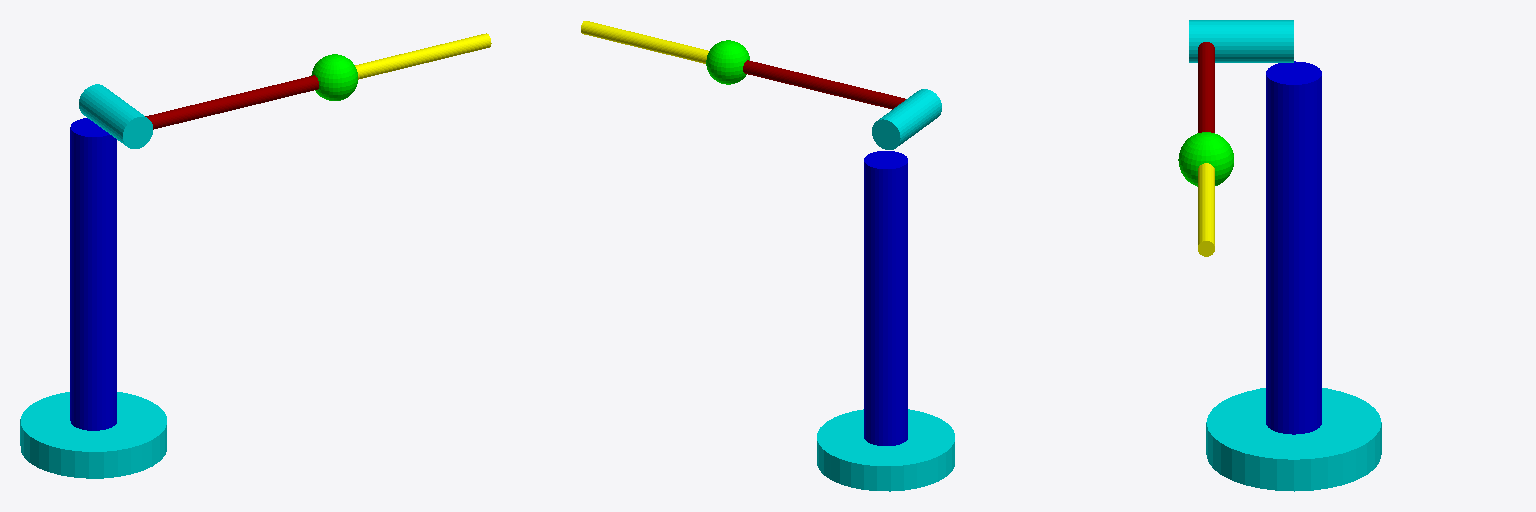
robot.urdf — pend_robot:
<?xml version="1.0"?>
<!--
  Motorised pendulum, tidied version.

  Frame conventions (all link frames are aligned with the world frame when q = 0):
    * the post is vertical, along +z;
    * the motor_joint (shoulder) is at (0, -0.25, 1.3): above the post and 0.25 m to its side,
      so the arm swings in the plane y = -0.25, beside the post and never through it;
    * the joint axis is -y, so a positive angle lifts the arm UP in the x-z plane;
    * at q = 0 the arm points along +x (horizontal).
  The only rpy values in this file are inside <visual>/<inertial> tags. They rotate the
  cylinder shapes (which PyBullet builds along z) so that they lie along x or y.
  They do not change any frame.
-->
<robot name="pend_robot">

  <link name="base_link">
    <visual>
      <origin xyz="0 0 0.05" rpy="0 0 0"/>
      <geometry><cylinder radius="0.25" length="0.1"/></geometry>
      <material name="cyan"><color rgba="0 0.9 0.9 1.0"/></material>
    </visual>
    <inertial>
      <origin xyz="0 0 0.05" rpy="0 0 0"/>
      <mass value="100"/>
      <inertia ixx="10" ixy="0" ixz="0" iyy="10" iyz="0" izz="10"/>
    </inertial>
  </link>

  <link name="body_link">
    <visual>
      <origin xyz="0 0 0.6" rpy="0 0 0"/>
      <geometry><cylinder radius="0.08" length="1.2"/></geometry>
      <material name="blue"><color rgba="0 0 0.9 1.0"/></material>
    </visual>
    <inertial>
      <origin xyz="0 0 0.6" rpy="0 0 0"/>
      <mass value="5"/>
      <inertia ixx="0.6" ixy="0" ixz="0" iyy="0.6" iyz="0" izz="0.05"/>
    </inertial>
  </link>

  <!-- Motor housing: a cylinder along the joint axis (y), from the post to the arm. -->
  <link name="motor_link">
    <visual>
      <origin xyz="0 0.1 0" rpy="1.5707963 0 0"/>
      <geometry><cylinder radius="0.06" length="0.3"/></geometry>
      <material name="cyan"><color rgba="0 0.9 0.9 1.0"/></material>
    </visual>
    <inertial>
      <origin xyz="0 0 0" rpy="0 0 0"/>
      <mass value="1"/>
      <inertia ixx="0.01" ixy="0" ixz="0" iyy="0.01" iyz="0" izz="0.01"/>
    </inertial>
  </link>

  <!-- Arm: 0.8 m long, along +x of its own frame. -->
  <link name="arm_link">
    <visual>
      <origin xyz="0.4 0 0" rpy="0 1.5707963 0"/>
      <geometry><cylinder radius="0.025" length="0.8"/></geometry>
      <material name="red"><color rgba="0.6 0 0 1.0"/></material>
    </visual>
    <inertial>
      <origin xyz="0.4 0 0" rpy="0 0 0"/>
      <mass value="0.5"/>
      <inertia ixx="0.0002" ixy="0" ixz="0" iyy="0.03" iyz="0" izz="0.03"/>
    </inertial>
  </link>

  <!-- Ball at the end of the arm. Its frame origin is exactly the arm tip. -->
  <link name="ball_link">
    <visual>
      <origin xyz="0 0 0" rpy="0 0 0"/>
      <geometry><sphere radius="0.08"/></geometry>
      <material name="green"><color rgba="0 1 0 1"/></material>
    </visual>
    <inertial>
      <origin xyz="0 0 0" rpy="0 0 0"/>
      <mass value="2"/>
      <inertia ixx="0.005" ixy="0" ixz="0" iyy="0.005" iyz="0" izz="0.005"/>
    </inertial>
  </link>

  <joint name="first_joint" type="fixed">
    <parent link="base_link"/>
    <child link="body_link"/>
    <origin xyz="0 0 0" rpy="0 0 0"/>
  </joint>

  <!-- The only moving joint: the shoulder. -->
  <joint name="motor_joint" type="continuous">
    <parent link="body_link"/>
    <child link="motor_link"/>
    <origin xyz="0 -0.25 1.3" rpy="0 0 0"/>
    <axis xyz="0 -1 0"/>
    <dynamics damping="0.05" friction="0.0"/>
  </joint>

  <joint name="arm_fixed" type="fixed">
    <parent link="motor_link"/>
    <child link="arm_link"/>
    <origin xyz="0 0 0" rpy="0 0 0"/>
  </joint>

  <joint name="ball_fixed" type="fixed">
    <parent link="arm_link"/>
    <child link="ball_link"/>
    <origin xyz="0.8 0 0" rpy="0 0 0"/>
  </joint>


  <!-- Arm: 0.6 m long, along +x of its own frame. -->
  <link name="arm2_link">
    <visual>
      <origin xyz="0.3 0 0" rpy="0 1.5707963 0"/>
      <geometry><cylinder radius="0.025" length="0.6"/></geometry>
      <material name="yellow"><color rgba="1 1 0 1.0"/></material>
    </visual>
    <inertial>
      <origin xyz="0.4 0 0" rpy="0 0 0"/>
      <mass value="0.3"/>
      <inertia ixx="0.0002" ixy="0" ixz="0" iyy="0.03" iyz="0" izz="0.03"/>
    </inertial>
  </link>


    <joint name="elbow_joint" type="continuous">
      <parent link="ball_link"/>
      <child link="arm2_link"/>
      <origin xyz="0 0 0" rpy="0 0 0"/>
      <axis xyz="0 -1 0"/>
      <dynamics damping="0.05" friction="0.0"/>
    </joint>



</robot>

--- Render facts (derived) ---
3 views of the same robot in one strip: view 1: azimuth 30°, elevation 25°; view 2: azimuth 150°, elevation 25°; view 3: azimuth 270°, elevation 25° (orthographic).
Robot: pend_robot — 6 links, 5 joints (2 continuous, 3 fixed); root link base_link; default pose: all joints at 0.
Links seen in each view (by area): view 1: body_link, base_link, motor_link, arm_link, arm2_link, ball_link; view 2: body_link, base_link, motor_link, arm_link, arm2_link, ball_link; view 3: body_link, base_link, motor_link, ball_link, arm2_link, arm_link.
Link boxes in pixels (box(x1,y1,x2,y2)): body_link: box(70, 118, 116, 430); base_link: box(20, 392, 166, 478); motor_link: box(79, 84, 152, 148); arm_link: box(145, 75, 318, 129); arm2_link: box(355, 33, 491, 79); ball_link: box(311, 54, 357, 100); body_link: box(864, 151, 907, 445); base_link: box(817, 409, 954, 491); motor_link: box(872, 89, 941, 149); arm_link: box(743, 60, 905, 109); arm2_link: box(581, 21, 708, 63); ball_link: box(706, 40, 749, 84); body_link: box(1266, 61, 1321, 434); base_link: box(1206, 388, 1381, 491); motor_link: box(1189, 20, 1293, 62); ball_link: box(1178, 132, 1233, 186); arm2_link: box(1198, 163, 1214, 256); arm_link: box(1198, 42, 1214, 132).
Size in the robot's own frame: 1.65 by 0.58 by 1.38 metres.
Geometry: primitives only (box / cylinder / sphere), no mesh files.
